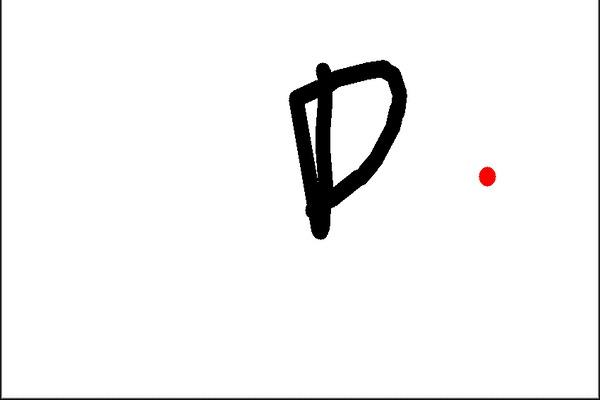D: (284, 54, 410, 241)
